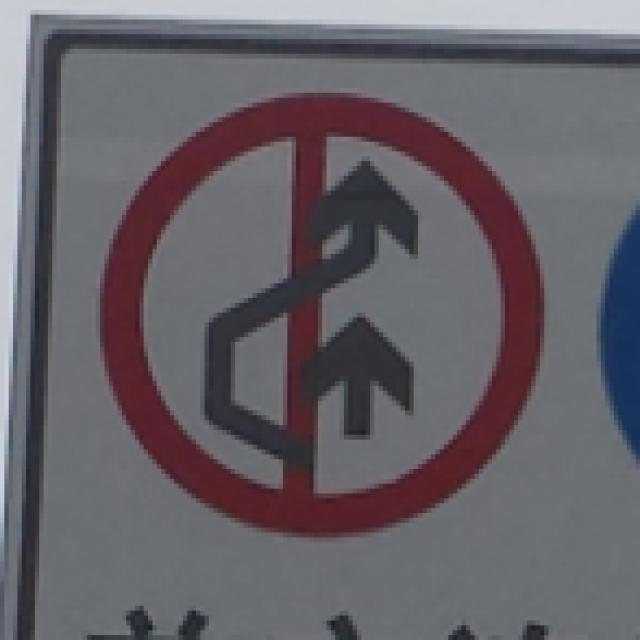Not that Direction: (95, 74, 548, 540)
